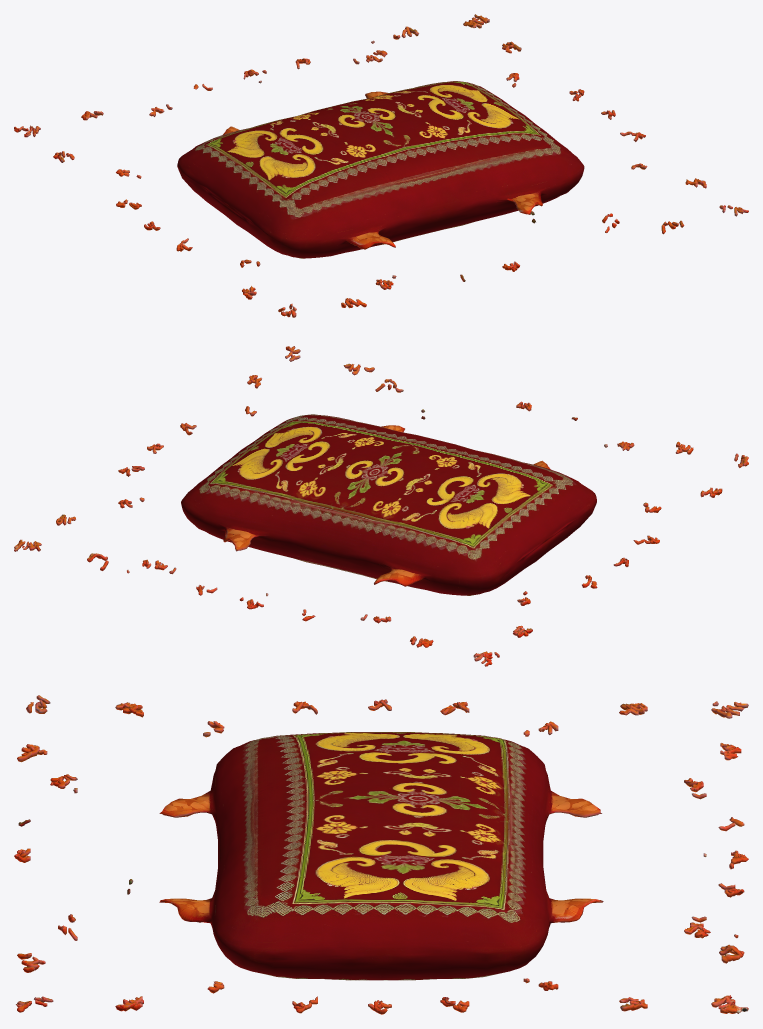
File: s1_quality_kurpeshki.glb
3 renders of one model, top to bottom at view 1: azimuth 30°, elevation 25°; view 2: azimuth 150°, elevation 25°; view 3: azimuth 270°, elevation 25°, orthographic. The views are drawn at different scales.
Size of the model in its own units: 1.9 by 0.3405 by 1.9.
1 material, 1 textured.
